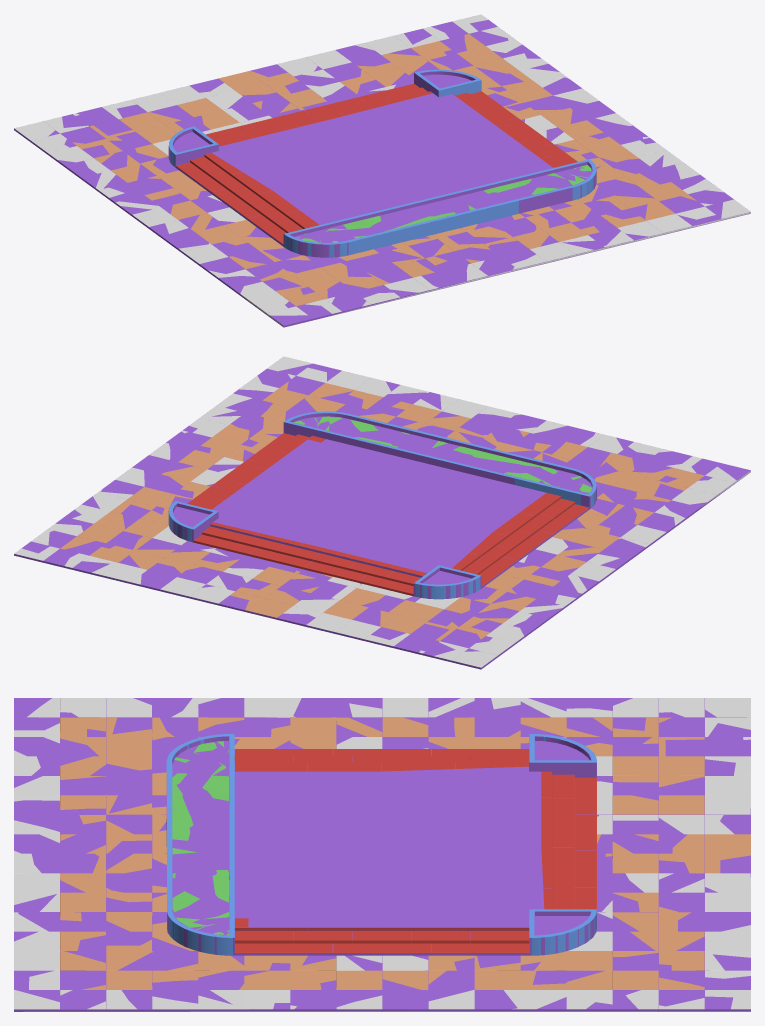
The model's file is [arch] Platform.fbx.
The picture shows the model from 3 angles, top to bottom: view 1: azimuth 30°, elevation 25°; view 2: azimuth 150°, elevation 25°; view 3: azimuth 270°, elevation 25°; orthographic projection. The views are drawn at different scales.
Visible parts, largest first — view 1: Platform_PHYS, Platform_LOD0; view 2: Platform_PHYS, Platform_LOD0; view 3: Platform_PHYS, Platform_LOD0.
Part boxes in pixels (left/top/right/bottom): Platform_PHYS: left=14, top=19, right=750, bottom=327; Platform_LOD0: left=14, top=14, right=750, bottom=326; Platform_PHYS: left=14, top=363, right=750, bottom=669; Platform_LOD0: left=14, top=356, right=750, bottom=667; Platform_PHYS: left=14, top=698, right=750, bottom=1011; Platform_LOD0: left=14, top=698, right=750, bottom=1011.
Size of what is drawn, in the model's own units: 2473 by 75.85 by 2473.
